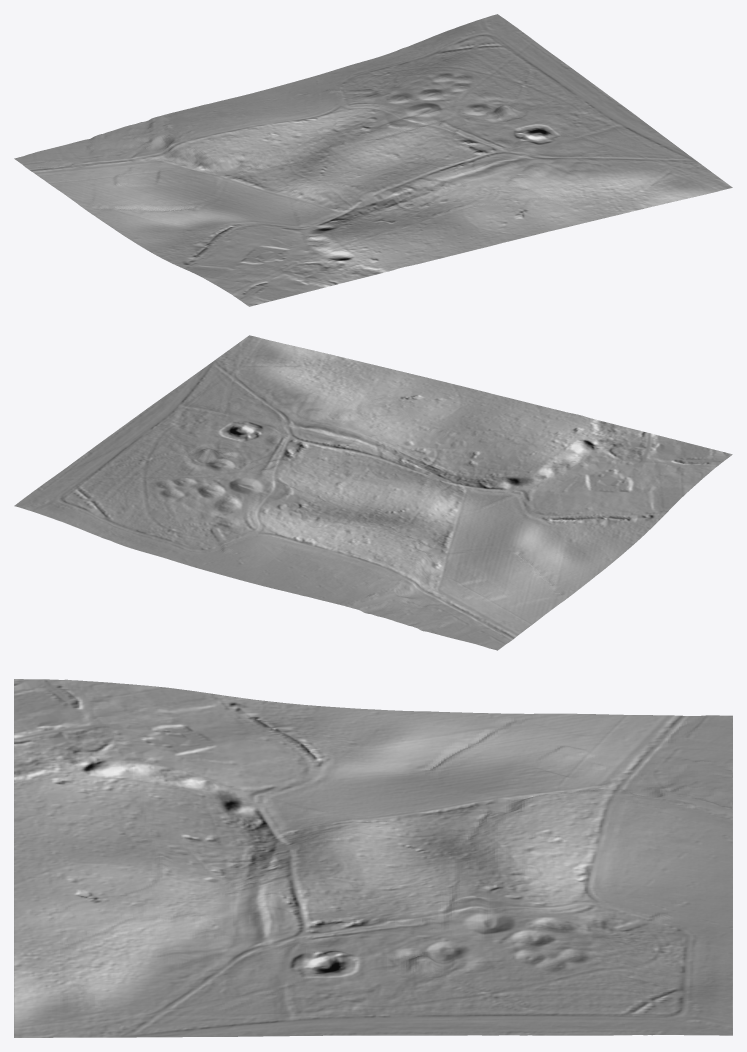
File: sutton_hoo_mounds_textured.glb
The picture shows the model from 3 angles, top to bottom: view 1: azimuth 30°, elevation 25°; view 2: azimuth 150°, elevation 25°; view 3: azimuth 270°, elevation 25°; orthographic projection. The views are drawn at different scales.
Visible parts, largest first — view 1: Sutton Hoo Mounds Web; view 2: Sutton Hoo Mounds Web; view 3: Sutton Hoo Mounds Web.
Part boxes in pixels (x1,y1,x2,y2): Sutton Hoo Mounds Web: (14,14,732,306); Sutton Hoo Mounds Web: (14,335,732,650); Sutton Hoo Mounds Web: (14,679,732,1037).
Size of the model in its own units: 533 by 32.83 by 449.
Materials: 1 (1 with a texture image).
